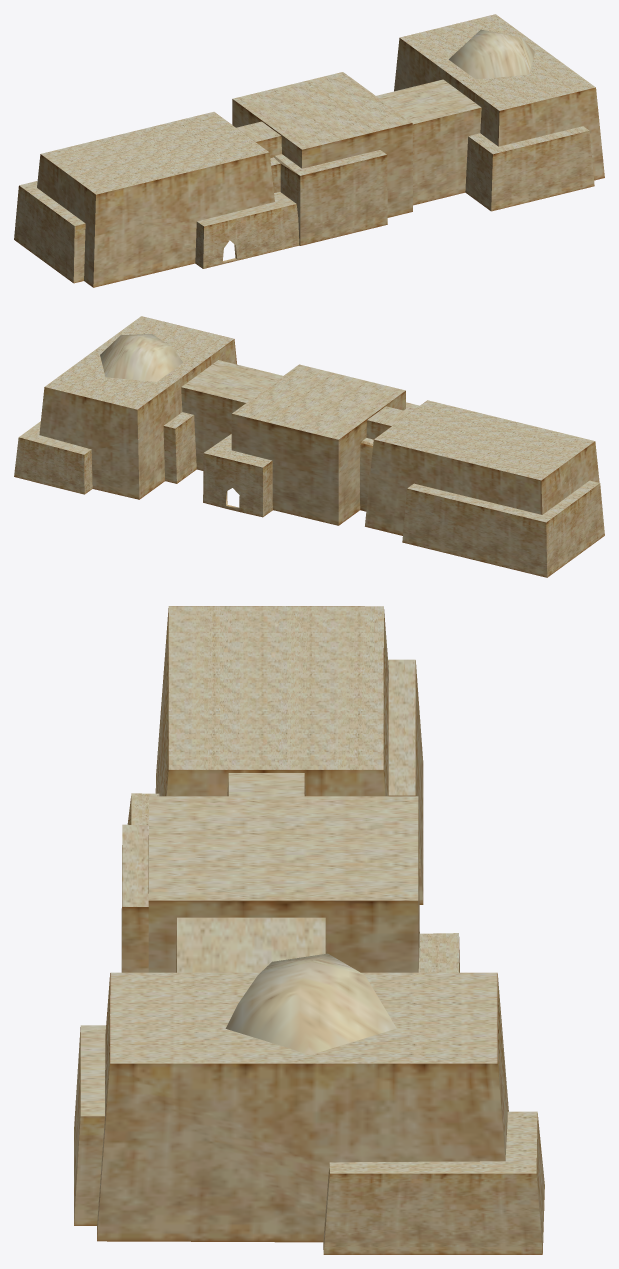
Rendered from thm_tato_block_bldg_64x32_s02_r0_exterior_mesh_l3.fbx.
3 renders of one model, top to bottom at view 1: azimuth 30°, elevation 25°; view 2: azimuth 150°, elevation 25°; view 3: azimuth 270°, elevation 25°, orthographic. The views are drawn at different scales.
Parts seen in each view (by area): view 1: mesh_node; view 2: mesh_node; view 3: mesh_node.
Boxes of the visible parts, x1,y1,x2,y2 form: mesh_node: (14,14,604,287); mesh_node: (14,316,604,577); mesh_node: (74,606,544,1254).
Bounding box in the file's own units: 77.79 × 16.81 × 31.51.
